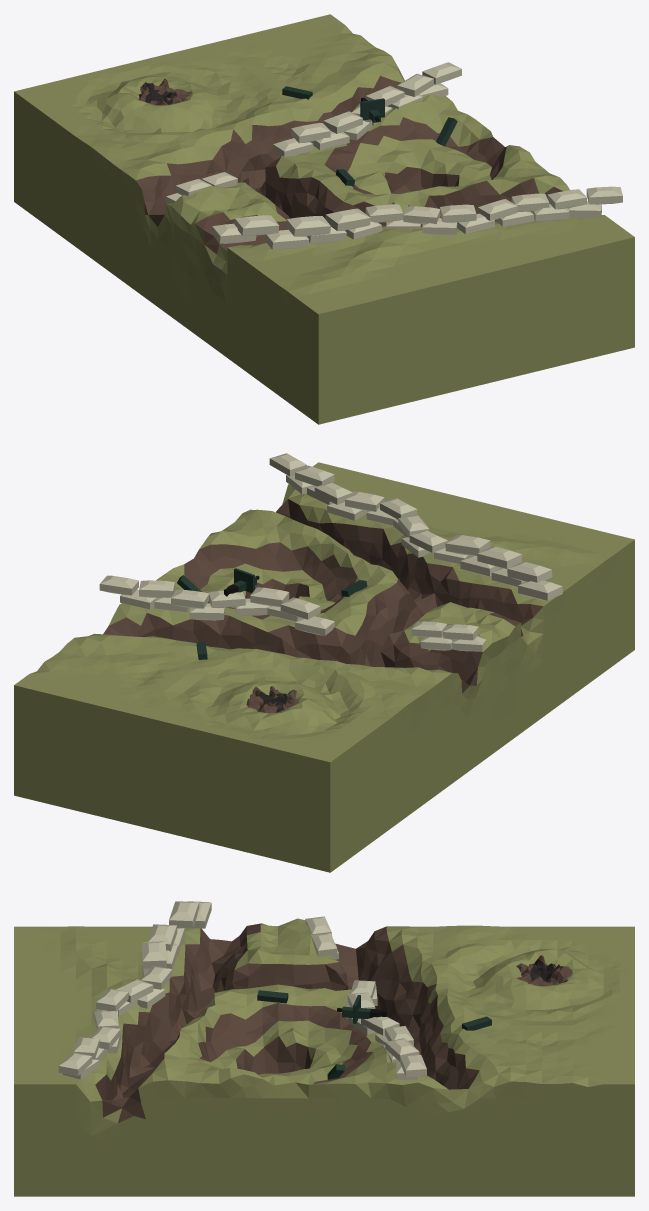
File: Map 0-1.fbx
3 views of the same model, one above another, from view 1: azimuth 30°, elevation 25°; view 2: azimuth 150°, elevation 25°; view 3: azimuth 270°, elevation 25° (orthographic).
Parts seen in each view (by area): view 1: Cube.001, Cylinder, Cube.012, Cube.011, Cube.010, Cube.013, Cube.017, Cube.038, Cube.043, Cube.030, Cube.039, Cube.040 (+4 smaller); view 2: Cube.001, Cylinder, Cube.010, Cube.012, Cube.011, Cube.014, Cube.002, Cube.024, Cube.028, Cube.030, Cube.022, Cube.018; view 3: Cube.001, Cylinder, Cube.011, Cube.010, Cube.043, Cube.038, Cube.012, Cube.002, Cube.006, Cube.039, Cube.040, Cube.022 (+3 smaller).
Boxes of the visible parts, x1,y1,x2,y2 form: Cube.001: (14,14,634,424); Cylinder: (138,79,193,105); Cube.012: (286,216,330,236); Cube.011: (234,215,279,235); Cube.010: (325,208,370,231); Cube.013: (264,229,308,249); Cube.017: (547,189,586,209); Cube.038: (440,204,476,222); Cube.043: (586,186,622,204); Cube.030: (291,123,330,143); Cube.039: (365,204,403,222); Cube.040: (403,206,440,224); Cube.001: (14,462,634,872); Cylinder: (246,686,298,713); Cube.010: (445,535,490,556); Cube.012: (477,546,522,568); Cube.011: (507,562,552,582); Cube.014: (518,580,562,600); Cube.002: (99,575,138,595); Cube.024: (171,589,208,608); Cube.028: (250,587,289,606); Cube.030: (280,597,320,619); Cube.022: (139,580,174,597); Cube.018: (345,491,384,511); Cube.001: (14,918,634,1196); Cylinder: (516,955,572,986); Cube.011: (169,901,199,928); Cube.010: (141,941,166,968); Cube.043: (58,1052,92,1076); Cube.038: (96,988,128,1011); Cube.012: (147,924,177,951); Cube.002: (400,1054,426,1077); Cube.006: (311,933,337,956); Cube.039: (141,966,172,989); Cube.040: (116,979,153,1002); Cube.022: (385,1038,419,1061).
Bounding box in the file's own units: 662 × 266 × 1000.
